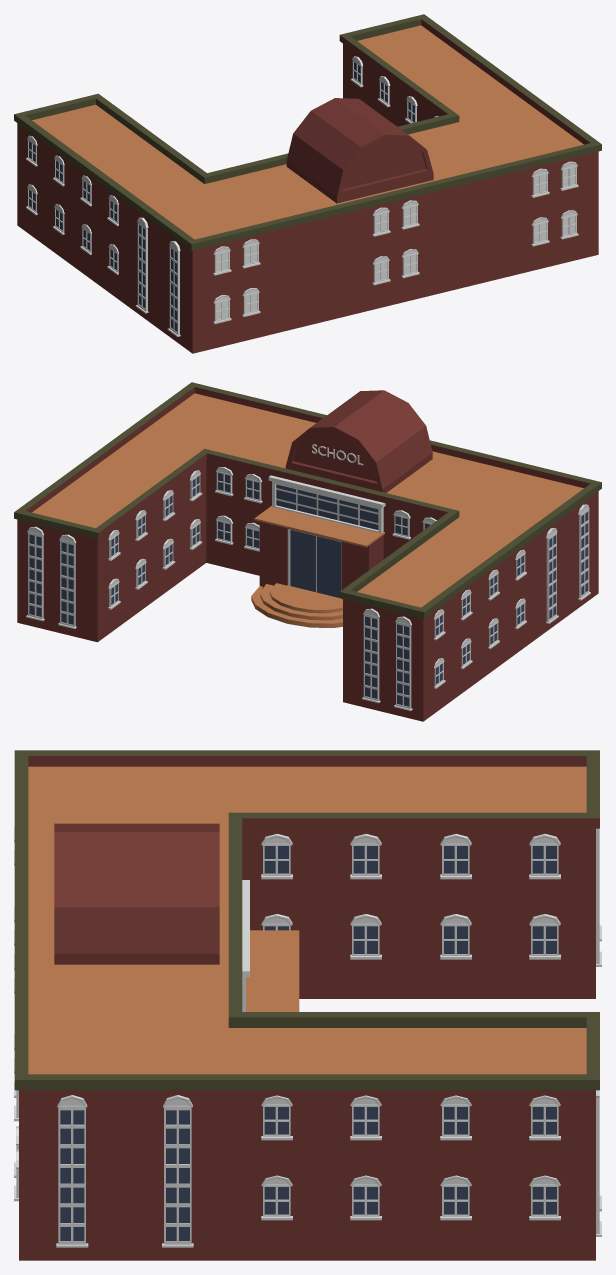
The model's file is school.fbx.
3 renders of one model, top to bottom at view 1: azimuth 30°, elevation 25°; view 2: azimuth 150°, elevation 25°; view 3: azimuth 270°, elevation 25°, orthographic. The views are drawn at different scales.
Parts seen in each view (by area): view 1: school; view 2: school; view 3: school.
Boxes of the visible parts, x1,y1,x2,y2 form: school: [14, 14, 601, 353]; school: [14, 382, 601, 721]; school: [14, 750, 601, 1260].
Bounding box in the file's own units: 2278 × 862 × 1707.
